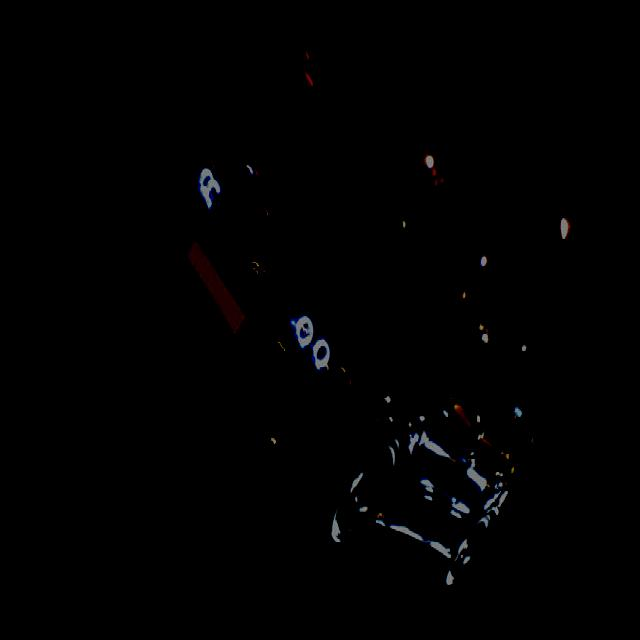Car: (145, 143, 515, 594)
